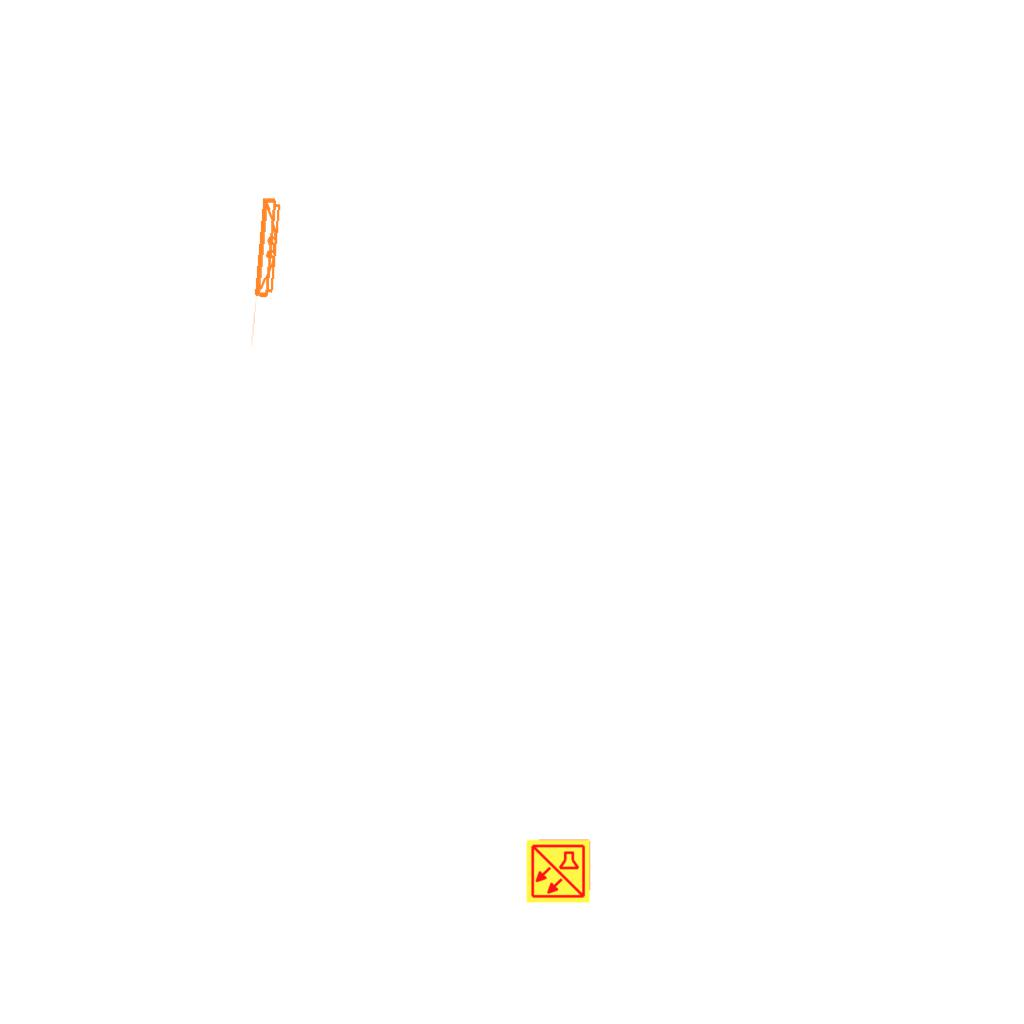OKW_Multisensormelder_(Kombination_optischer_Rauch-Kahlenmonoxid_Waerme-Melder): (525, 838, 591, 904)
Sicherheitsleuchte_Wandeinbau: (247, 192, 286, 353)
